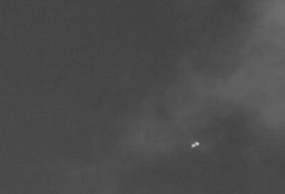Target: (192, 142, 198, 146)
